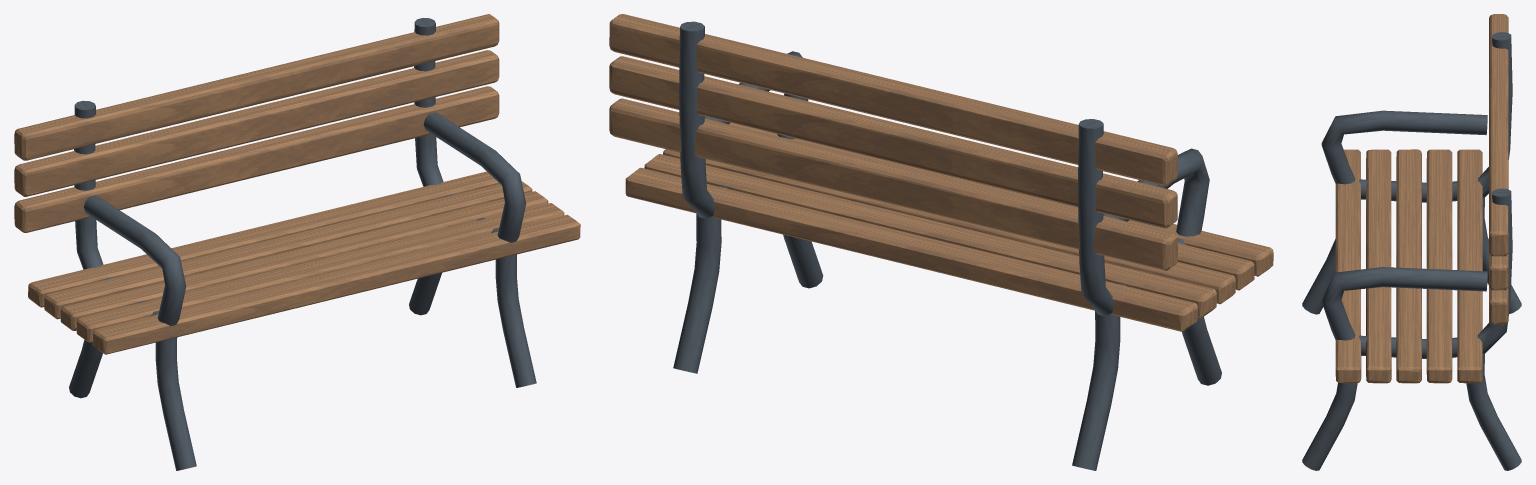
Rendered from bench.glb.
The picture shows the model from 3 angles, left to right: view 1: azimuth 30°, elevation 25°; view 2: azimuth 150°, elevation 25°; view 3: azimuth 270°, elevation 25°; orthographic projection. The views are drawn at different scales.
Parts seen in each view (by area): view 1: bench; view 2: bench; view 3: bench.
Boxes of the visible parts, left/top/right/bottom form: bench: left=14, top=14, right=580, bottom=470; bench: left=609, top=14, right=1273, bottom=470; bench: left=1302, top=14, right=1521, bottom=470.
Size of the model in its own units: 1.8 by 1.06 by 0.7591.
Materials: 2 (2 with a texture image).
